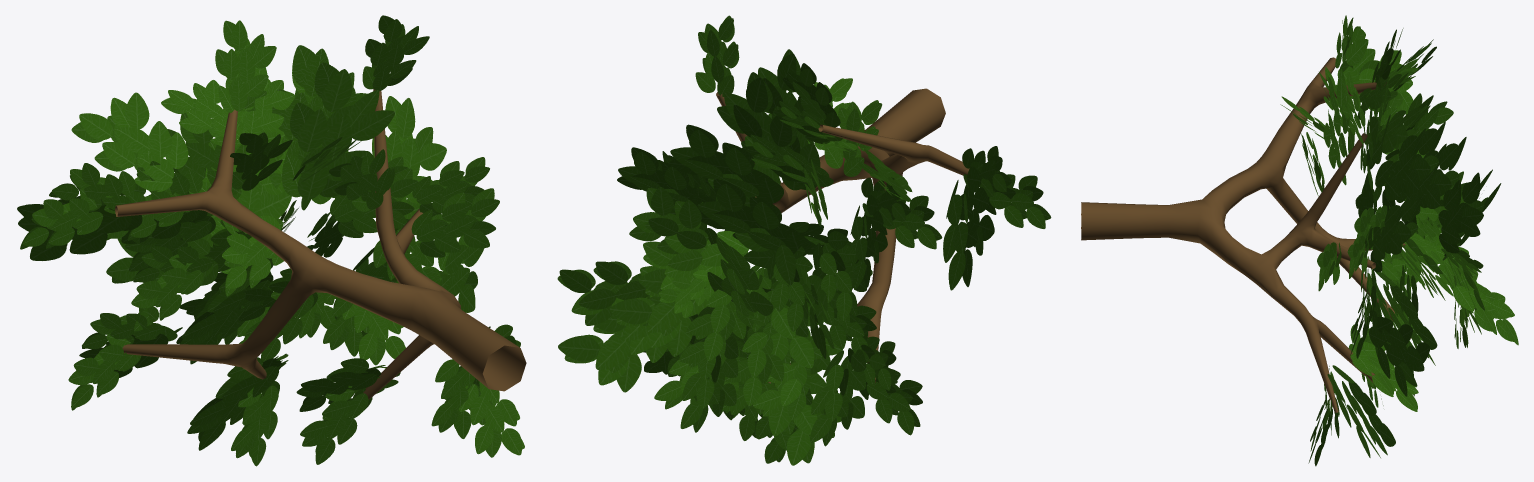
The model's file is tree.fbx.
3 views of the same model, side by side, from view 1: azimuth 30°, elevation 25°; view 2: azimuth 150°, elevation 25°; view 3: azimuth 270°, elevation 25° (orthographic). The views are drawn at different scales.
Parts seen in each view (by area): view 1: strom_lp.001; view 2: strom_lp.001; view 3: strom_lp.001.
Part boxes in pixels (<box>): strom_lp.001: <box>17,15,526,466</box>; strom_lp.001: <box>557,15,1051,465</box>; strom_lp.001: <box>1081,15,1518,466</box>.
Size of the model in its own units: 771 by 635 by 704.
